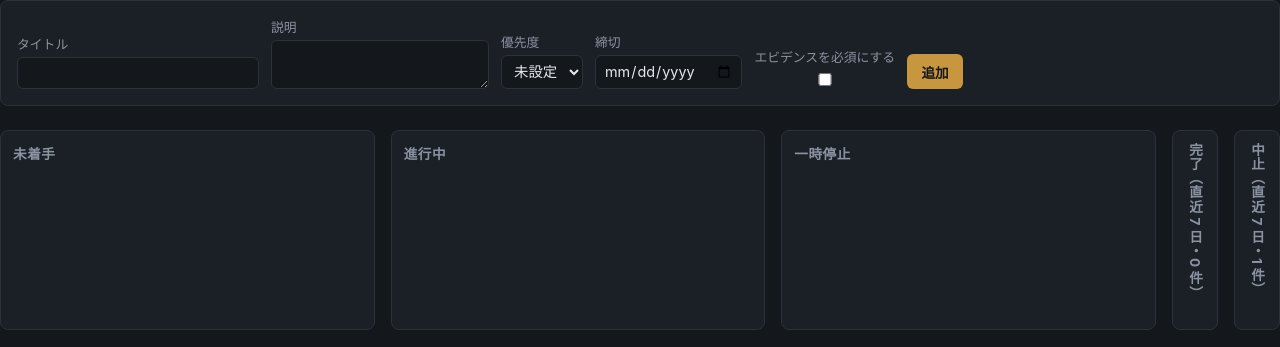
Test: TaskBoard › 完了/中止 列の直近ウィンドウ (#428) › shows a 中止 task updated today (AC-9)
What coordinates should you click on to do the following:
click the button "中止（直近 7 日・1 件）"
I would click on:
 (1257, 220)
Its box is left=1247, top=143, right=1267, bottom=296.
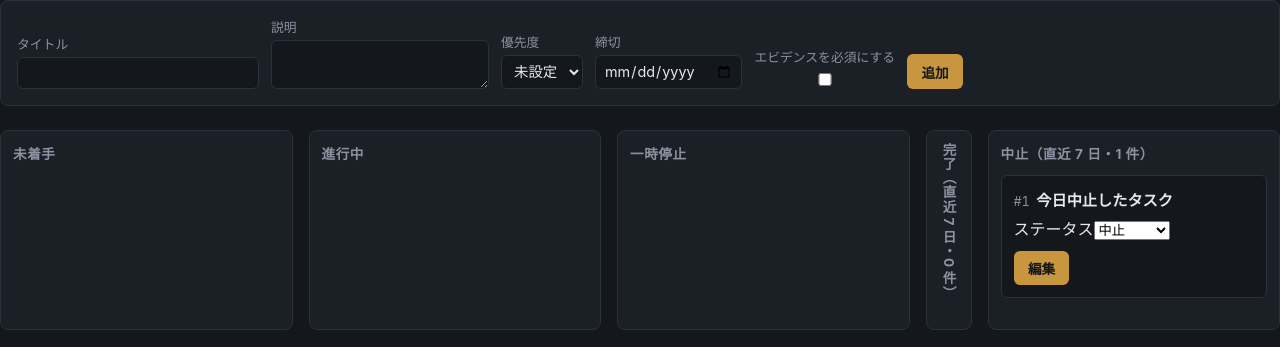
Expected: the button "中止（直近 7 日・1 件）" is expanded, left=1000, top=143, right=1267, bottom=163
Expected: the heading "今日中止したタスク" is shown, left=1036, top=188, right=1173, bottom=210
